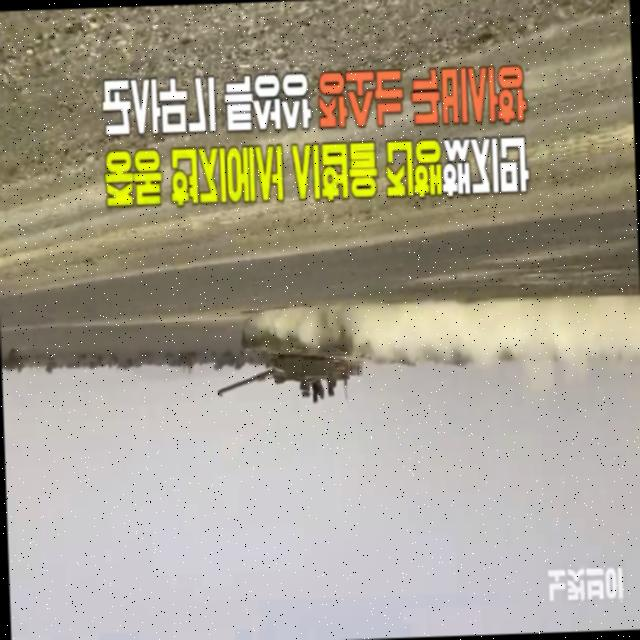korea tank: (213, 308, 378, 412)
